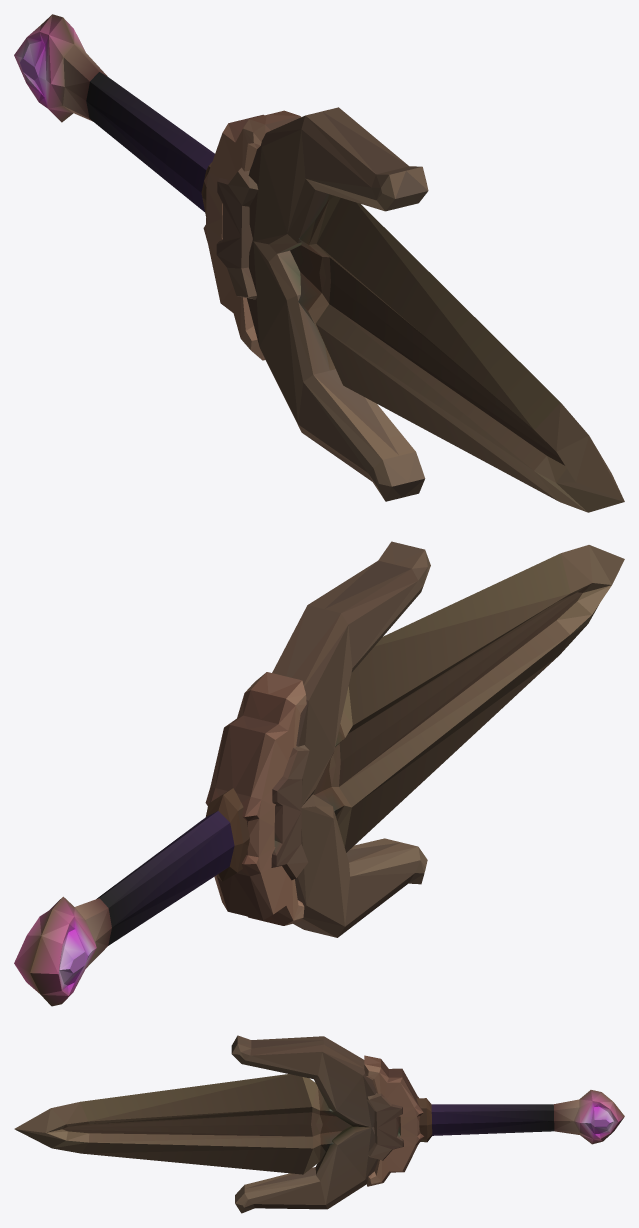
Rendered from weapon_sword_bronze_3.fbx.
3 renders of one model, top to bottom at view 1: azimuth 30°, elevation 25°; view 2: azimuth 150°, elevation 25°; view 3: azimuth 270°, elevation 25°, orthographic. The views are drawn at different scales.
Visible parts, largest first — view 1: weapon_sword_bronze_3; view 2: weapon_sword_bronze_3; view 3: weapon_sword_bronze_3.
Part boxes in pixels (box(x1,y1,x2,y2)): weapon_sword_bronze_3: box(14, 14, 624, 512); weapon_sword_bronze_3: box(14, 541, 624, 1006); weapon_sword_bronze_3: box(14, 1035, 624, 1213).
Bounding box in the file's own units: 0.1205 × 0.6536 × 2.13.
